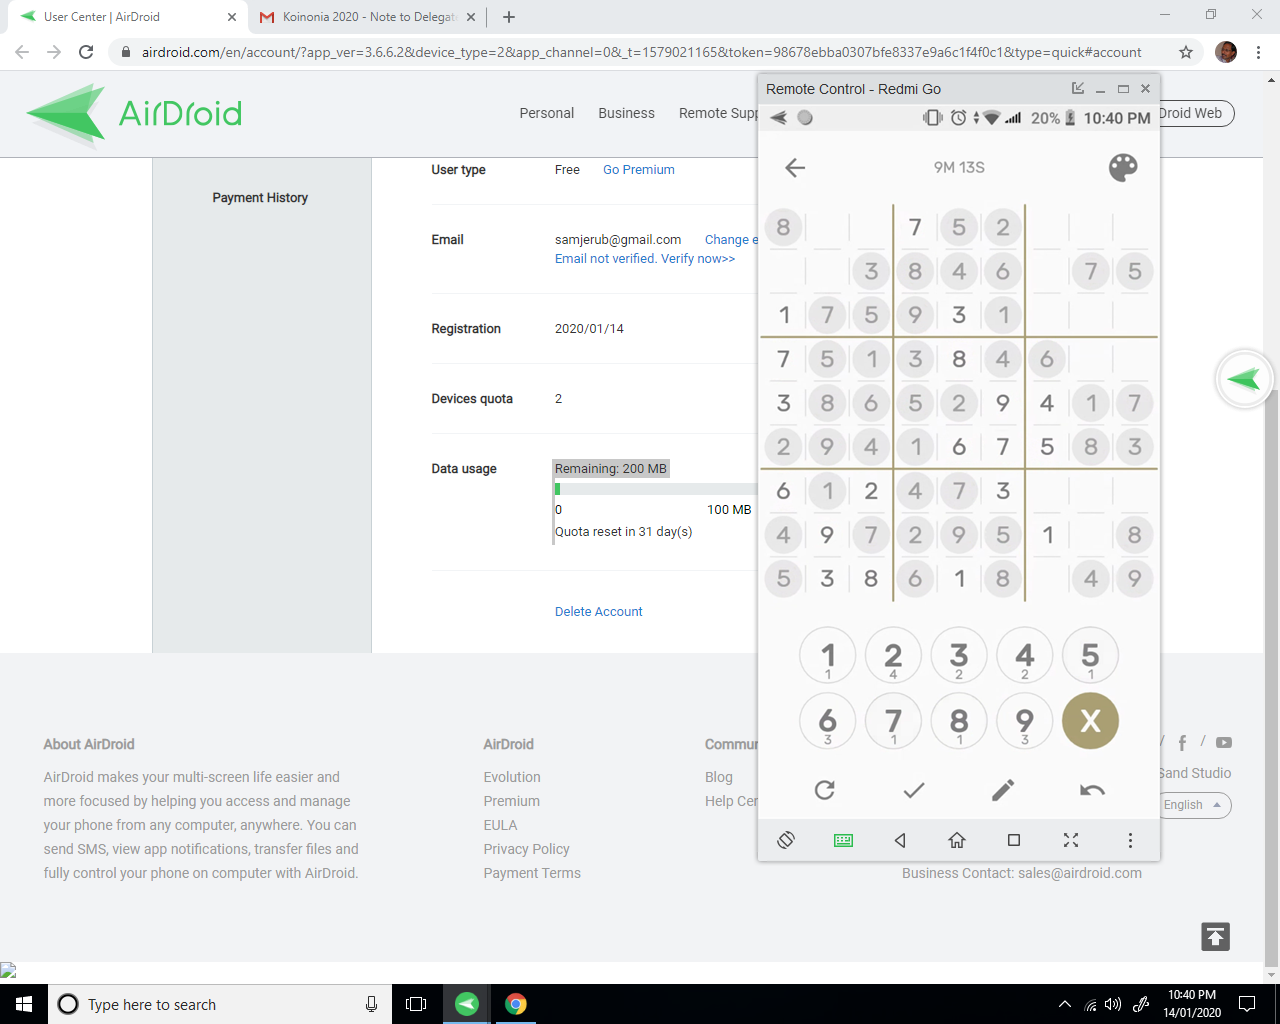XA: (1058, 690, 1128, 755)
